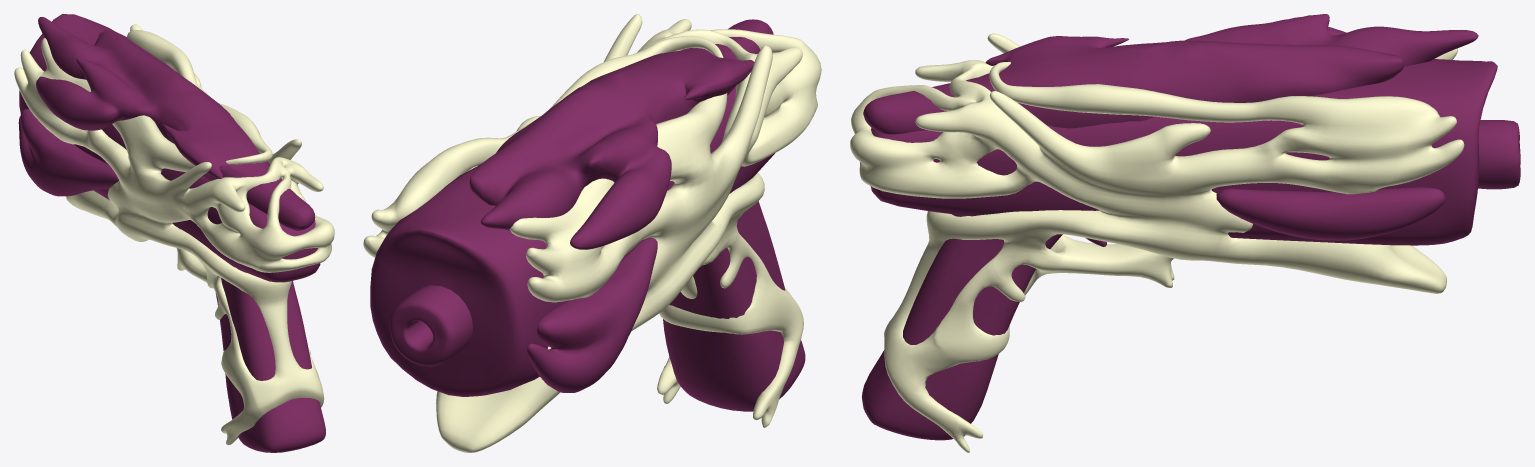
File: Pistola.fbx
The picture shows the model from 3 angles, left to right: view 1: azimuth 30°, elevation 25°; view 2: azimuth 150°, elevation 25°; view 3: azimuth 270°, elevation 25°; orthographic projection. The views are drawn at different scales.
Visible parts, largest first — view 1: Tentaculos, Morado, Mango, Cañon; view 2: Tentaculos, Morado, Cañon, Mango, Tubo; view 3: Tentaculos, Morado, Cañon, Mango, Tubo.
Part boxes in pixels (box(x1,y1,x2,y2)): Tentaculos: box(14, 24, 334, 445); Morado: box(18, 17, 315, 230); Mango: box(215, 268, 325, 452); Cañon: box(19, 14, 320, 282); Tentaculos: box(363, 14, 821, 452); Morado: box(469, 19, 773, 392); Cañon: box(370, 53, 774, 396); Mango: box(663, 201, 805, 411); Tubo: box(389, 285, 472, 366); Tentaculos: box(850, 33, 1464, 452); Morado: box(863, 14, 1478, 240); Cañon: box(870, 59, 1497, 245); Mango: box(862, 214, 1062, 440); Tubo: box(1478, 120, 1520, 189).
Bounding box in the file's own units: 518 × 951 × 1489.
